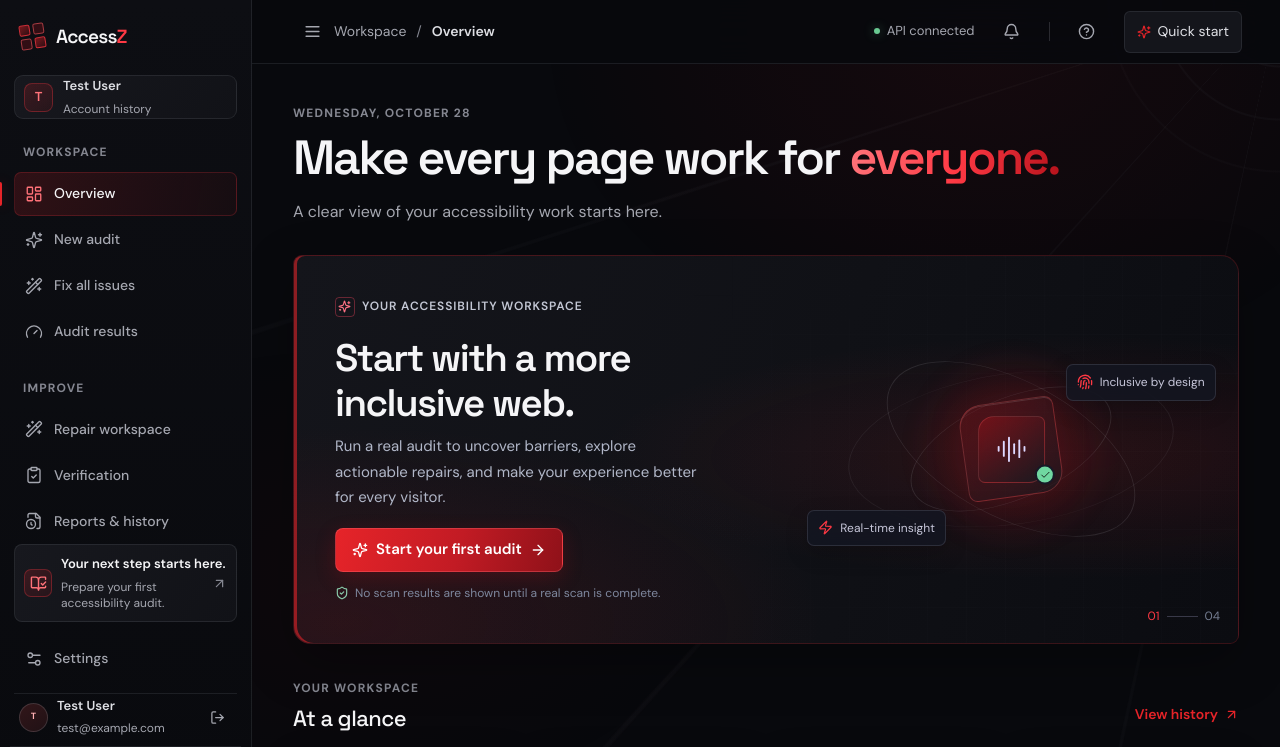
it: AccessZ audit workflow › loads the selected historical audit rather than the newest audit
Step 1. Click the link "Reports & history" → point(97, 521), box [25,512,169,530]
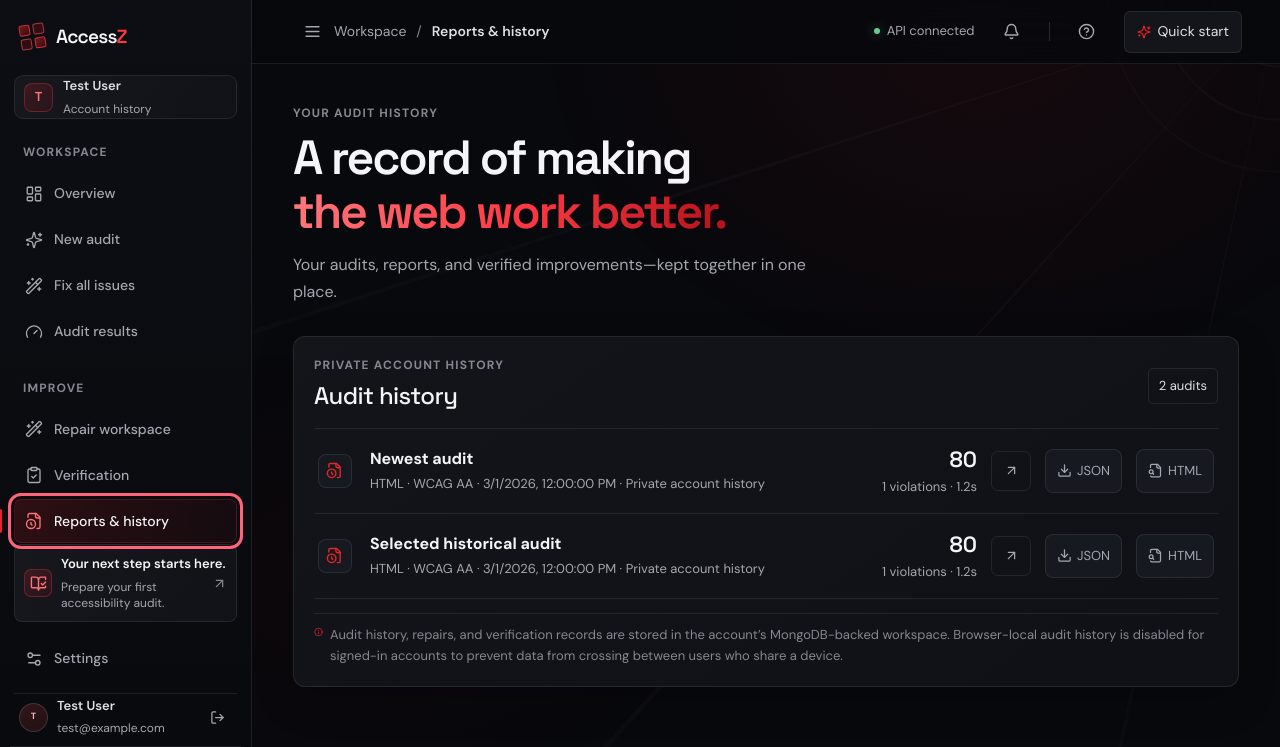
Step 2. Click the link named "View results for Selected historical audit" → point(1011, 556), box [991,536,1031,576]
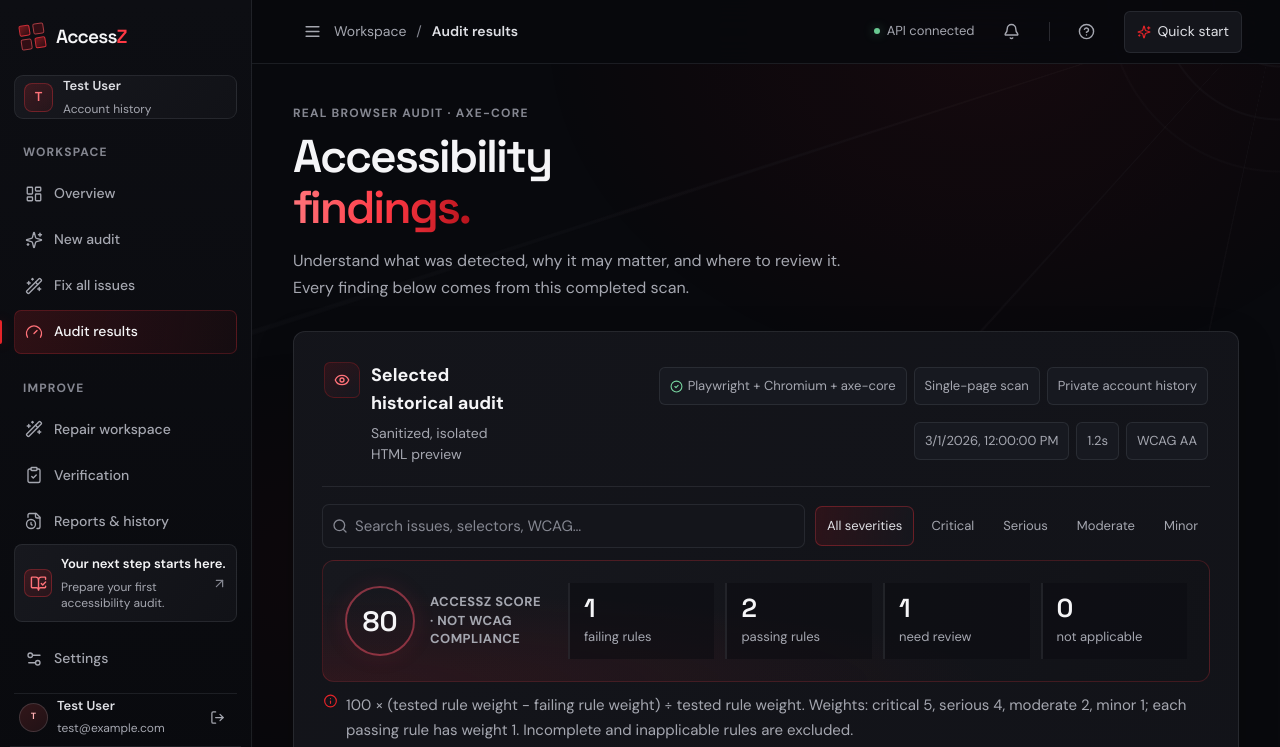
Expected: the text "Selected historical audit" is shown, [371,362,527,418]
Now the text "Newest audit" is gone
